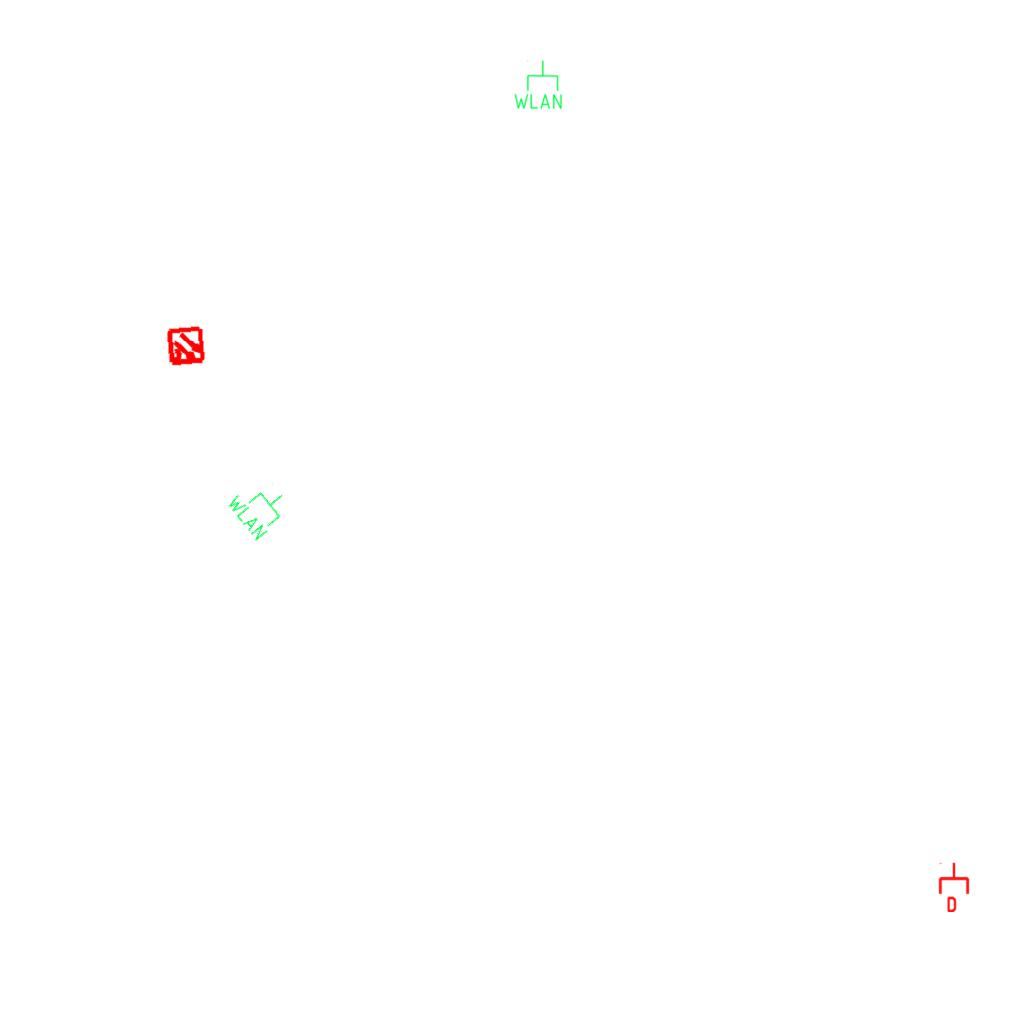Datenanschluss_einfach: (937, 862, 971, 912)
OT_Multisensormelder_(Kombination_RMO_WMD): (155, 316, 217, 378)
WLAN: (223, 470, 297, 544), (512, 59, 564, 111)
